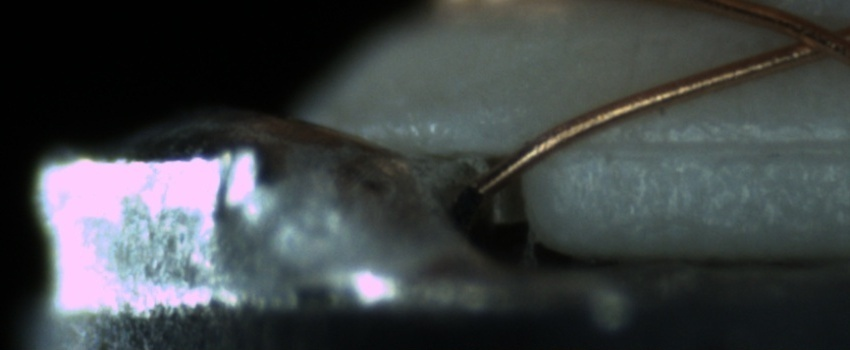CL: (769, 8, 850, 68)
DL: (568, 113, 847, 178)
